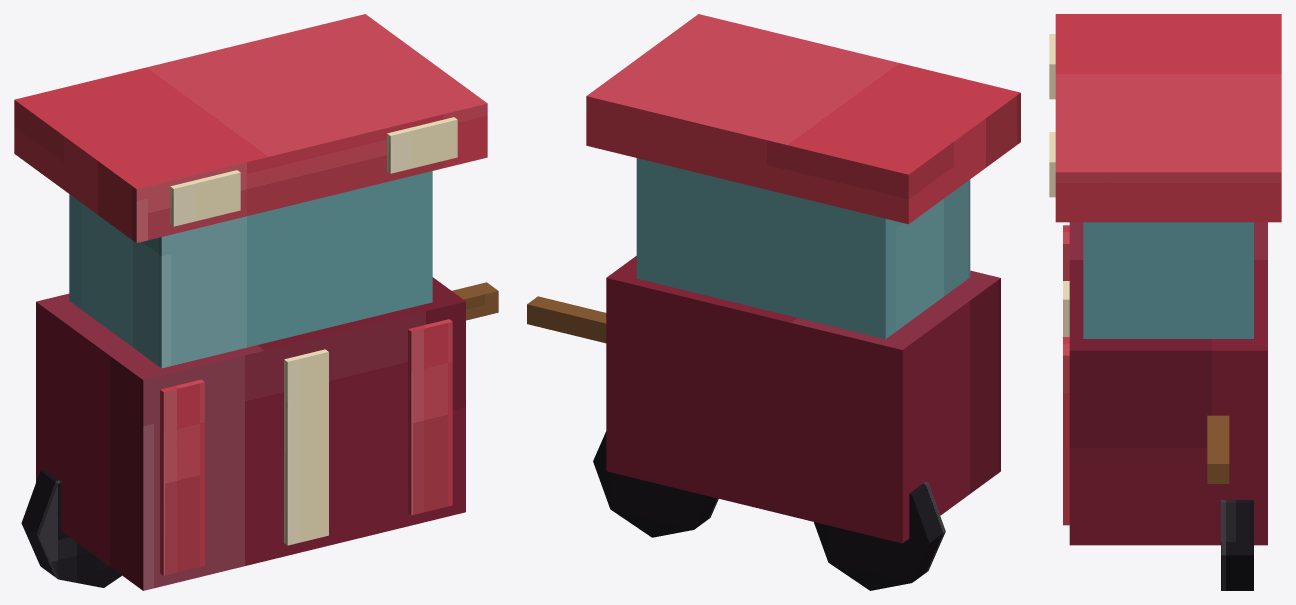
Rendered from popcorn_cart.glb.
3 views of the same model, side by side, from view 1: azimuth 30°, elevation 25°; view 2: azimuth 150°, elevation 25°; view 3: azimuth 270°, elevation 25° (orthographic). The views are drawn at different scales.
Parts seen in each view (by area): view 1: CartBody, Canopy, GlassCase, BodyStripe, BodyStripe.002, BodyStripe.001, Wheel, CanopyPanel, CanopyPanel.001, Handle; view 2: CartBody, Canopy, GlassCase, Wheel, Wheel.001, Handle; view 3: Canopy, CartBody, GlassCase, Wheel.001, Handle, BodyStripe.002, CanopyPanel, CanopyPanel.001, BodyStripe, BodyStripe.001.
Part boxes in pixels (box(x1,y1,x2,y2)): CartBody: box(36, 277, 465, 590); Canopy: box(14, 14, 487, 242); GlassCase: box(69, 171, 432, 368); BodyStripe: box(160, 379, 204, 575); BodyStripe.002: box(408, 319, 452, 515); BodyStripe.001: box(284, 349, 328, 545); Wheel: box(21, 469, 121, 587); CanopyPanel: box(170, 170, 240, 226); CanopyPanel.001: box(387, 117, 457, 173); Handle: box(452, 282, 498, 320); CartBody: box(606, 256, 1000, 543); Canopy: box(586, 14, 1020, 224); GlassCase: box(636, 158, 970, 339); Wheel: box(814, 481, 945, 590); Wheel.001: box(593, 431, 718, 537); Handle: box(527, 296, 606, 343); Canopy: box(1055, 14, 1281, 222); CartBody: box(1069, 222, 1267, 545); GlassCase: box(1083, 222, 1253, 338); Wheel.001: box(1221, 500, 1253, 590); Handle: box(1207, 415, 1229, 483); BodyStripe.002: box(1063, 337, 1069, 525); CanopyPanel: box(1049, 34, 1055, 99); CanopyPanel.001: box(1049, 132, 1055, 197); BodyStripe: box(1063, 225, 1069, 280); BodyStripe.001: box(1063, 281, 1069, 336).
Size of the model in its own units: 1.75 by 1.77 by 0.8435.
1 material, 1 textured.
